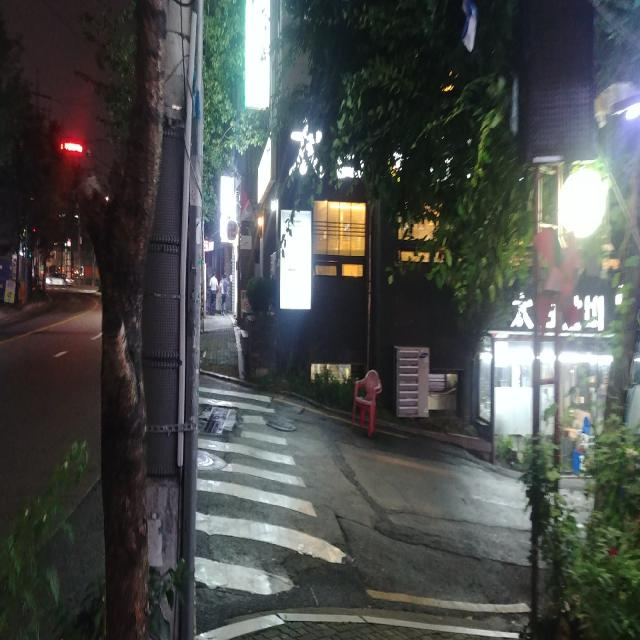횡단보도: (193, 382, 346, 596)
